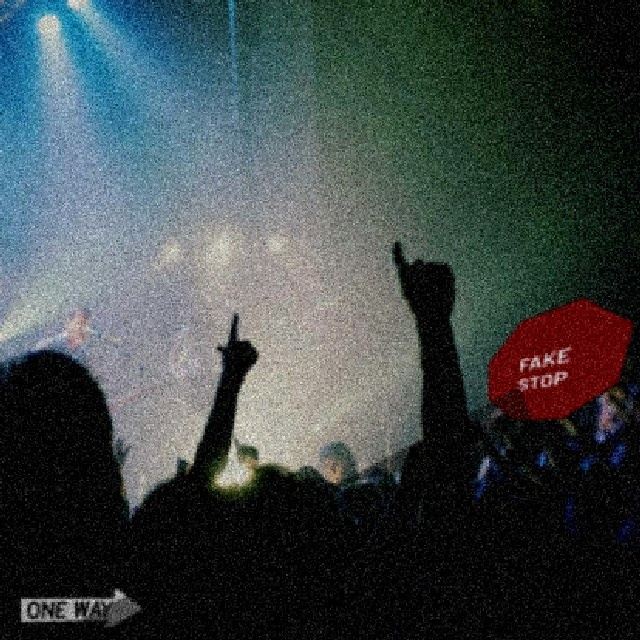FAKE_STOP: (486, 295, 635, 420)
ONE_WAY_ right: (9, 584, 158, 632)
